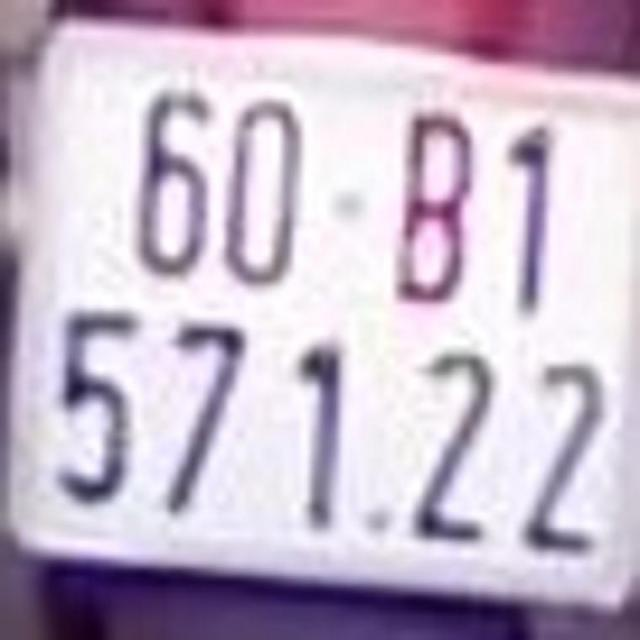0: (222, 86, 302, 286)
1: (498, 106, 561, 319), (288, 324, 348, 534)
2: (406, 338, 494, 549), (530, 346, 608, 568)
5: (58, 300, 136, 507)
6: (132, 76, 211, 276)
7: (158, 314, 246, 505)
B: (393, 92, 474, 306)
